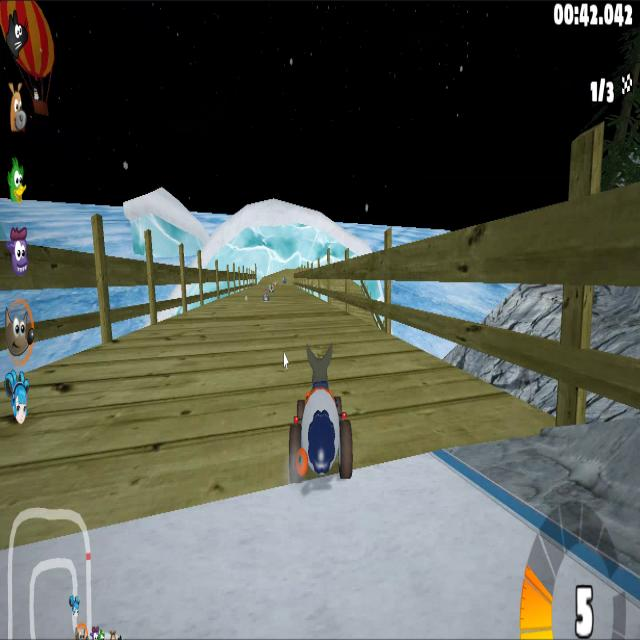enemy_kart: (259, 289, 272, 307), (281, 267, 290, 285)
player_kart: (287, 350, 353, 491)
